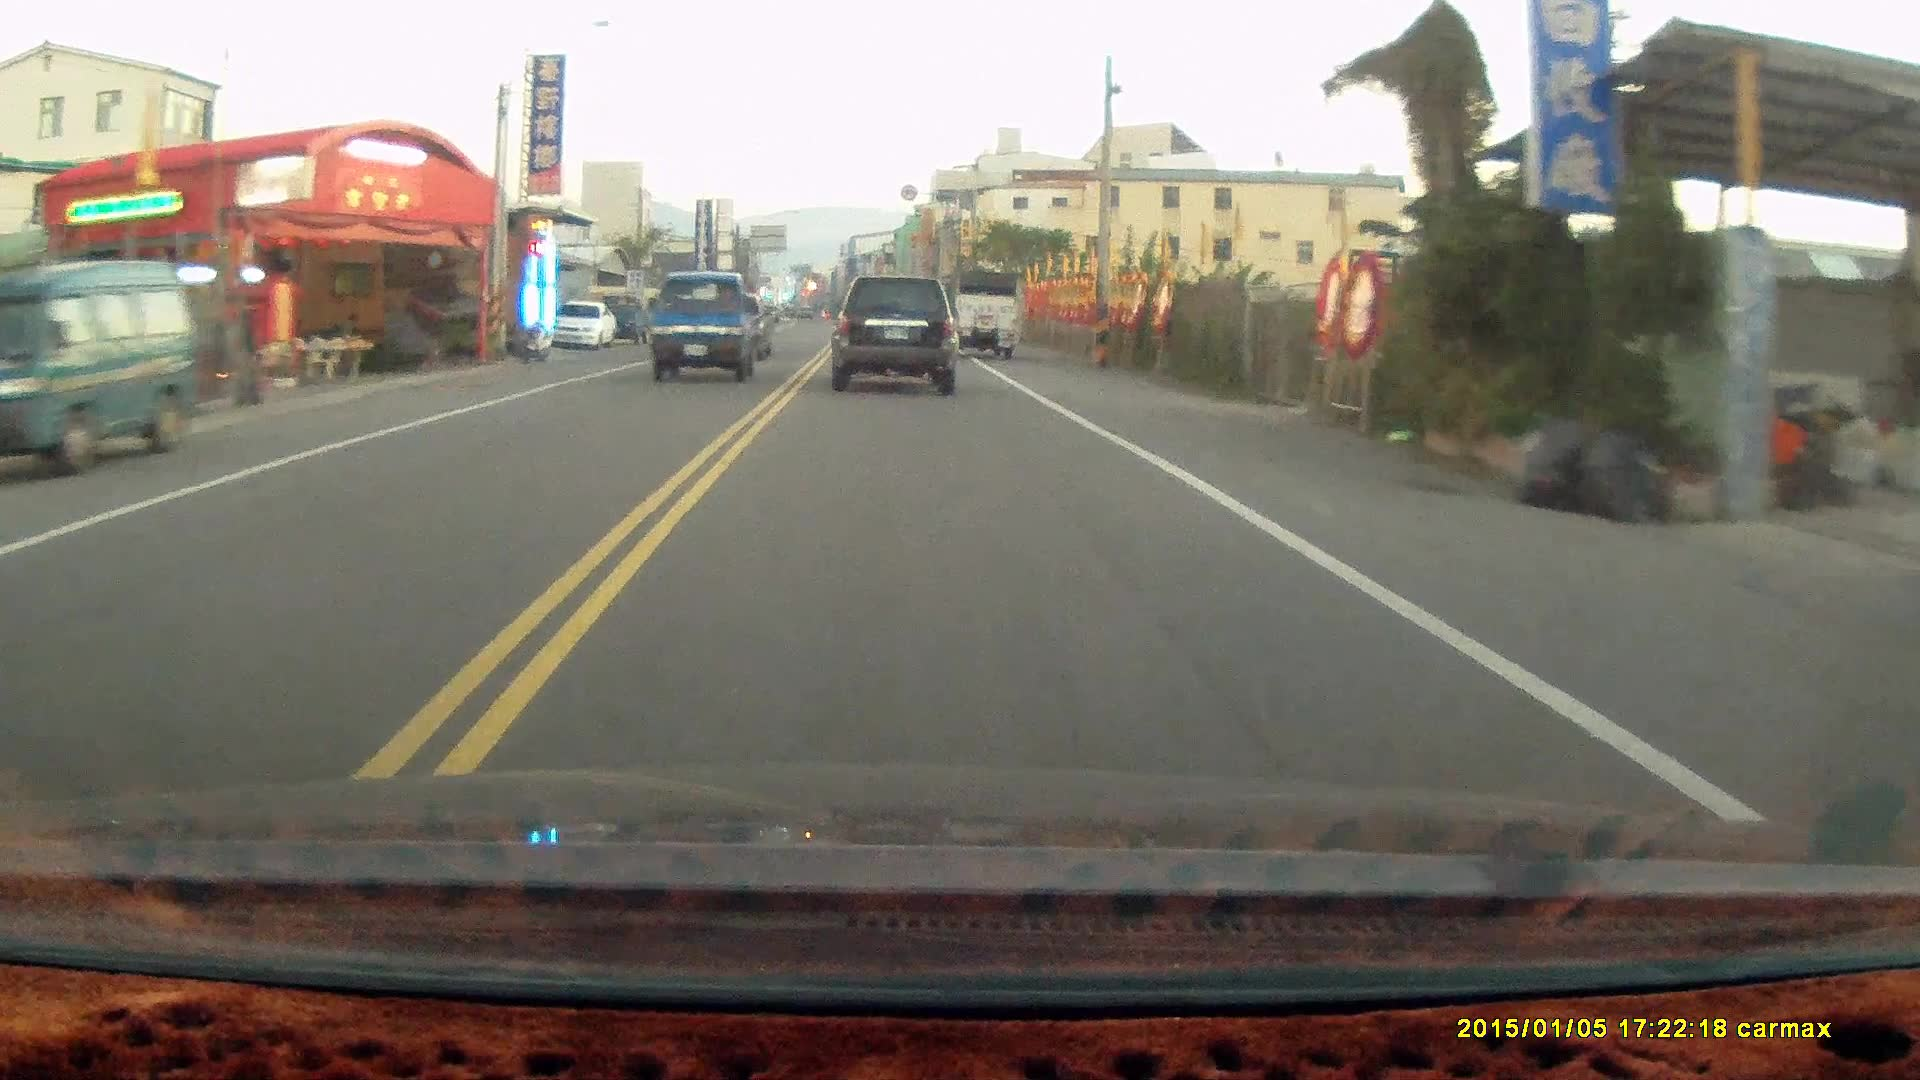vehicle: (5, 256, 214, 476), (835, 265, 969, 392), (647, 265, 775, 378), (939, 264, 1025, 359), (550, 301, 618, 347)
